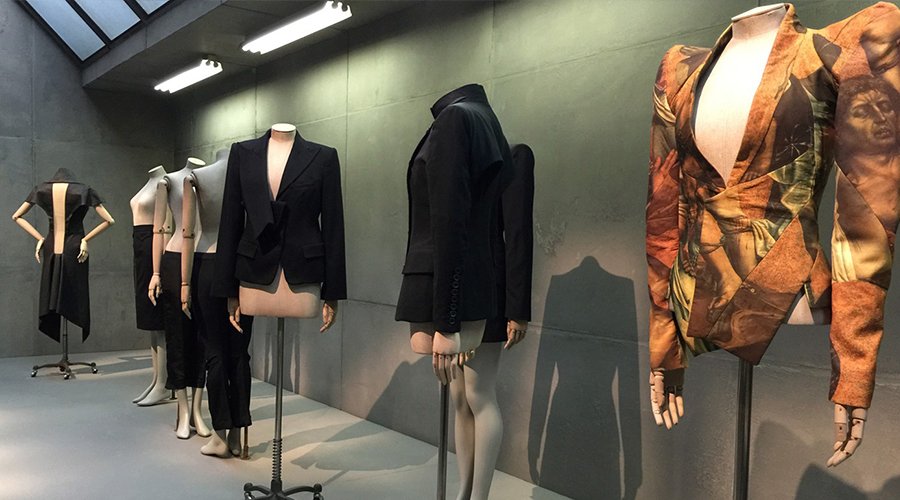person-like: (633, 1, 900, 471), (391, 81, 522, 386), (438, 137, 543, 500), (213, 115, 355, 338), (178, 142, 256, 458), (7, 163, 120, 349), (148, 150, 214, 443), (124, 162, 176, 411)
